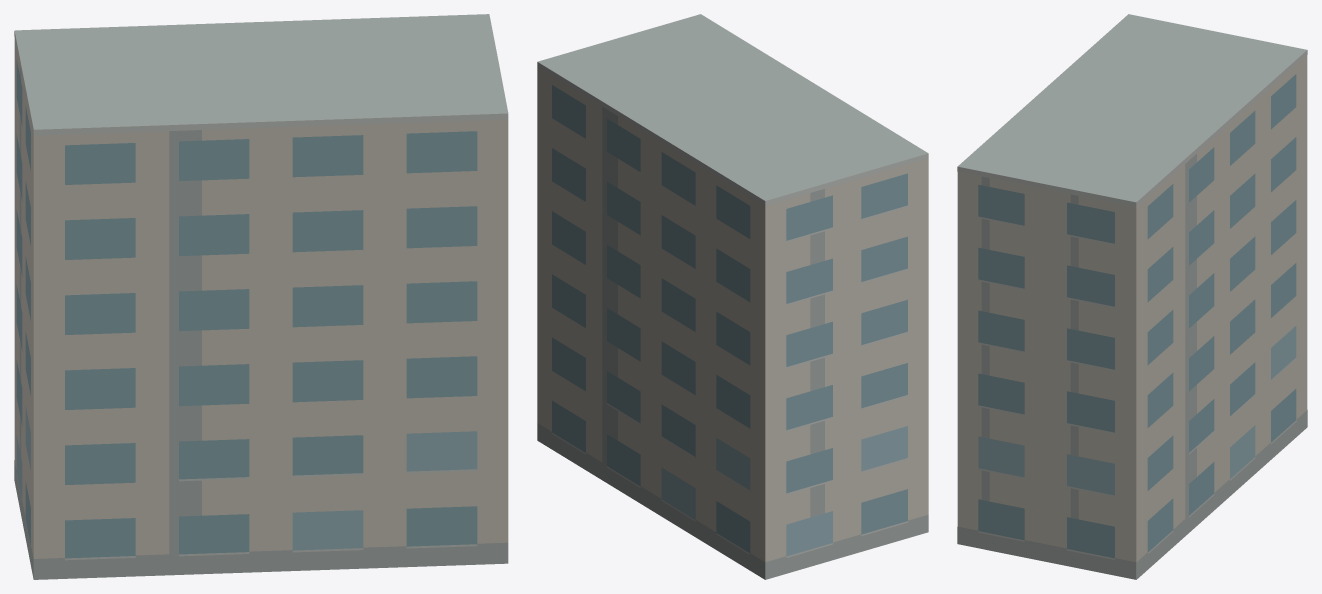
Rendered from residential-d0549ac6-69ff-4ed8-b00a-6450f90ad411.glb.
3 views of the same model, side by side, from view 1: azimuth 30°, elevation 25°; view 2: azimuth 150°, elevation 25°; view 3: azimuth 270°, elevation 25° (orthographic). The views are drawn at different scales.
Parts seen in each view (by area): view 1: residential-d0549ac6-69ff-4ed8-b00a-6450f90ad411.tmp; view 2: residential-d0549ac6-69ff-4ed8-b00a-6450f90ad411.tmp; view 3: residential-d0549ac6-69ff-4ed8-b00a-6450f90ad411.tmp.
Boxes of the visible parts, x1,y1,x2,y2 form: residential-d0549ac6-69ff-4ed8-b00a-6450f90ad411.tmp: (14, 14, 508, 579); residential-d0549ac6-69ff-4ed8-b00a-6450f90ad411.tmp: (537, 14, 928, 579); residential-d0549ac6-69ff-4ed8-b00a-6450f90ad411.tmp: (957, 14, 1307, 579).
Bounding box in the file's own units: 19.6 × 18.3 × 15.38.
